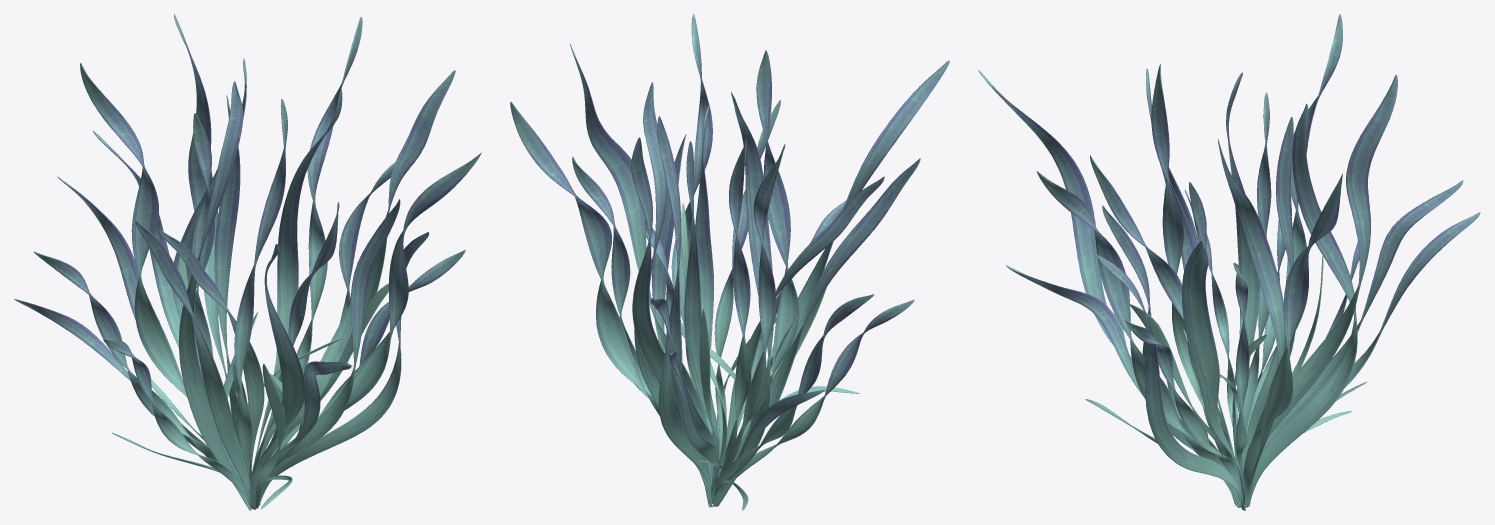
The picture shows the model from 3 angles, left to right: view 1: azimuth 30°, elevation 25°; view 2: azimuth 150°, elevation 25°; view 3: azimuth 270°, elevation 25°; orthographic projection. The views are drawn at different scales.
Visible parts, largest first — view 1: Aquarium_Plant_80_1; view 2: Aquarium_Plant_80_1; view 3: Aquarium_Plant_80_1.
Part boxes in pixels (box(x1,y1,x2,y2)): Aquarium_Plant_80_1: box(14, 14, 481, 510); Aquarium_Plant_80_1: box(510, 14, 949, 510); Aquarium_Plant_80_1: box(978, 14, 1480, 510).
Size of the model in its own units: 0.1644 by 0.1899 by 0.1964.
1 material, 1 textured.
